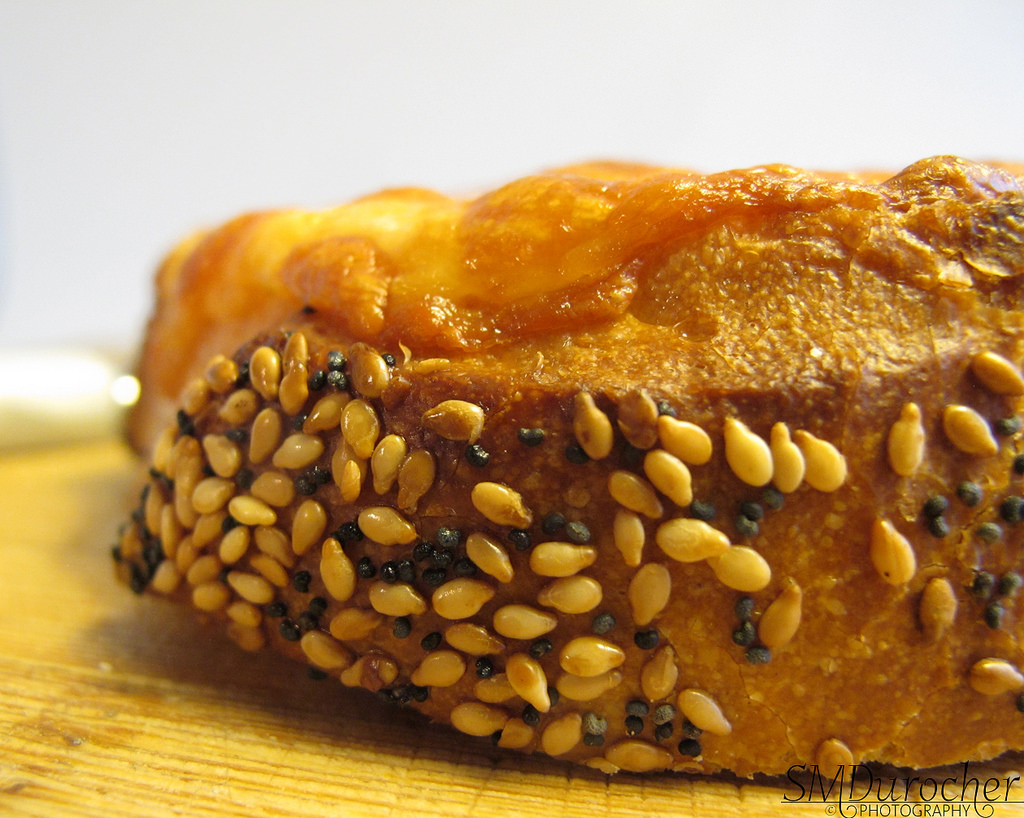slice of bread: (206, 314, 1024, 770)
